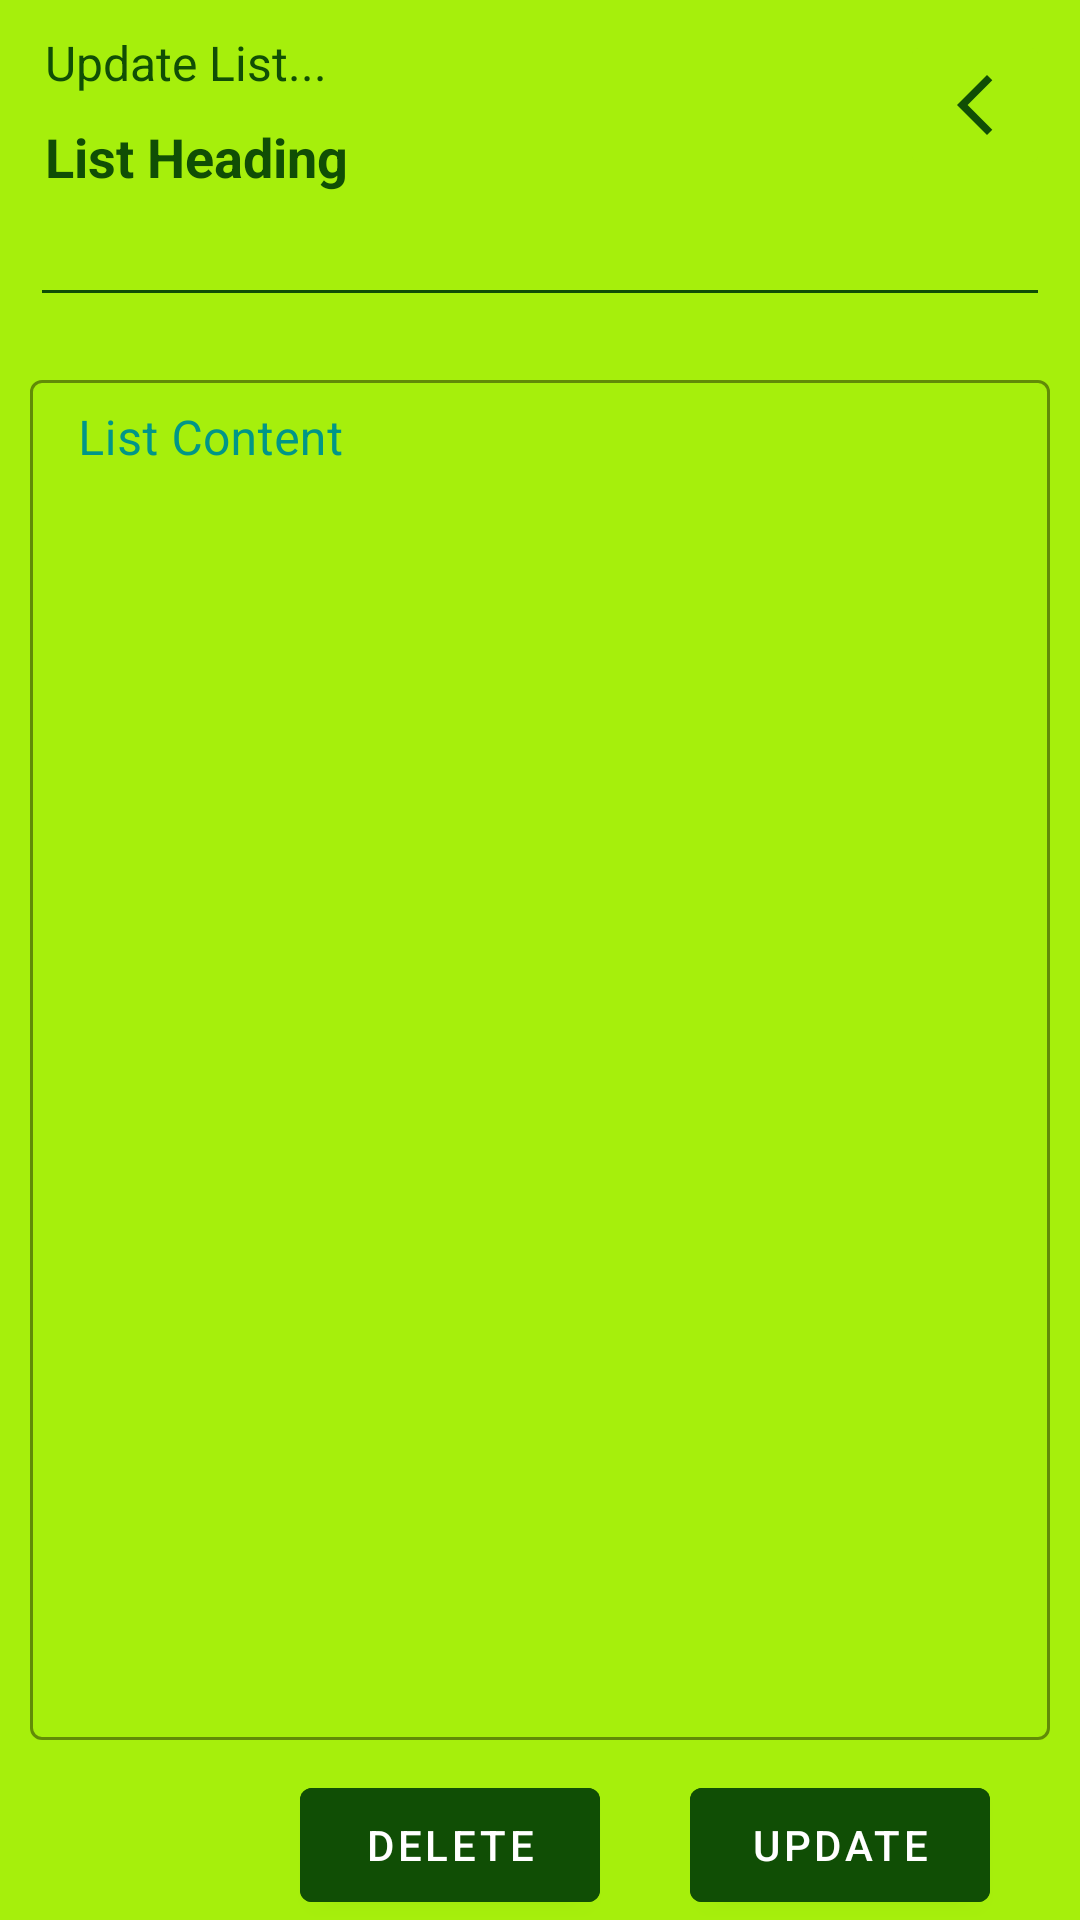

Screen size 1080x1920. Icon name, then its center in pixels as (x,y):
arrow back: (974,105)
